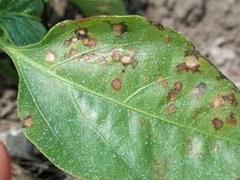Bell_pepper leaf: (14, 13, 238, 179)
